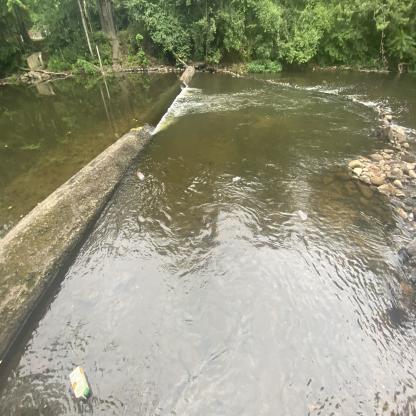trash: (67, 364, 91, 403), (136, 168, 146, 182)
